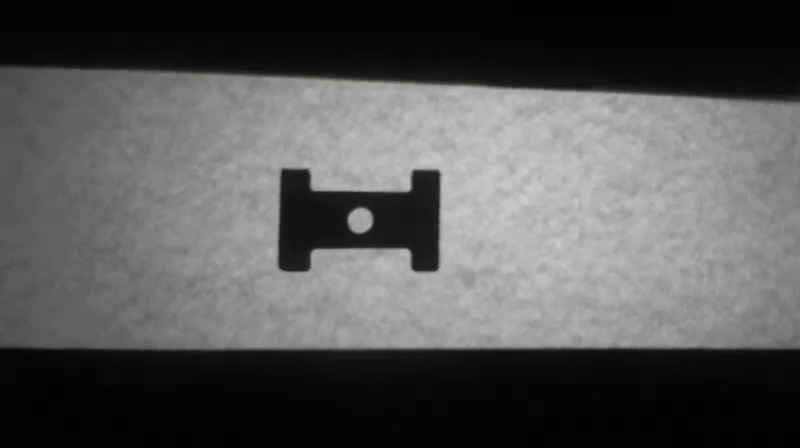O002: (273, 164, 446, 276)
